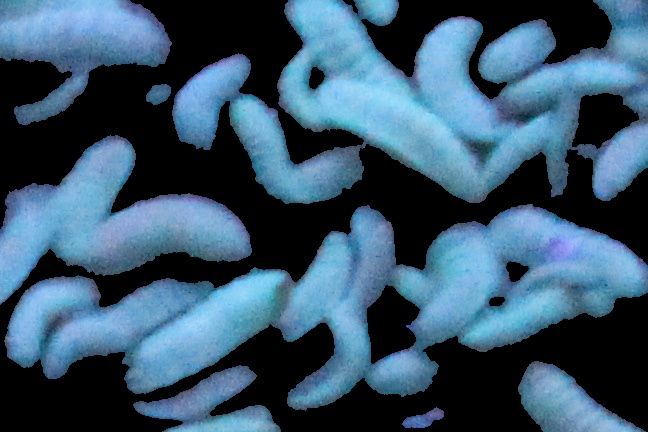larvae: (316, 83, 482, 202), (130, 272, 285, 386), (50, 281, 208, 376), (488, 208, 642, 293), (94, 189, 261, 264), (1, 1, 168, 74), (412, 16, 497, 143), (284, 1, 405, 87), (494, 46, 629, 118), (416, 218, 491, 342), (2, 278, 99, 369), (291, 304, 370, 410), (279, 216, 347, 337), (517, 358, 626, 432), (54, 137, 137, 232), (171, 50, 247, 149), (462, 288, 582, 348), (130, 368, 254, 421), (1, 185, 61, 294), (237, 92, 286, 208), (283, 144, 382, 200), (348, 199, 395, 307), (480, 17, 559, 81), (488, 118, 554, 190), (593, 118, 648, 203), (365, 353, 468, 393), (149, 403, 283, 432), (274, 51, 323, 130), (389, 258, 439, 307)
